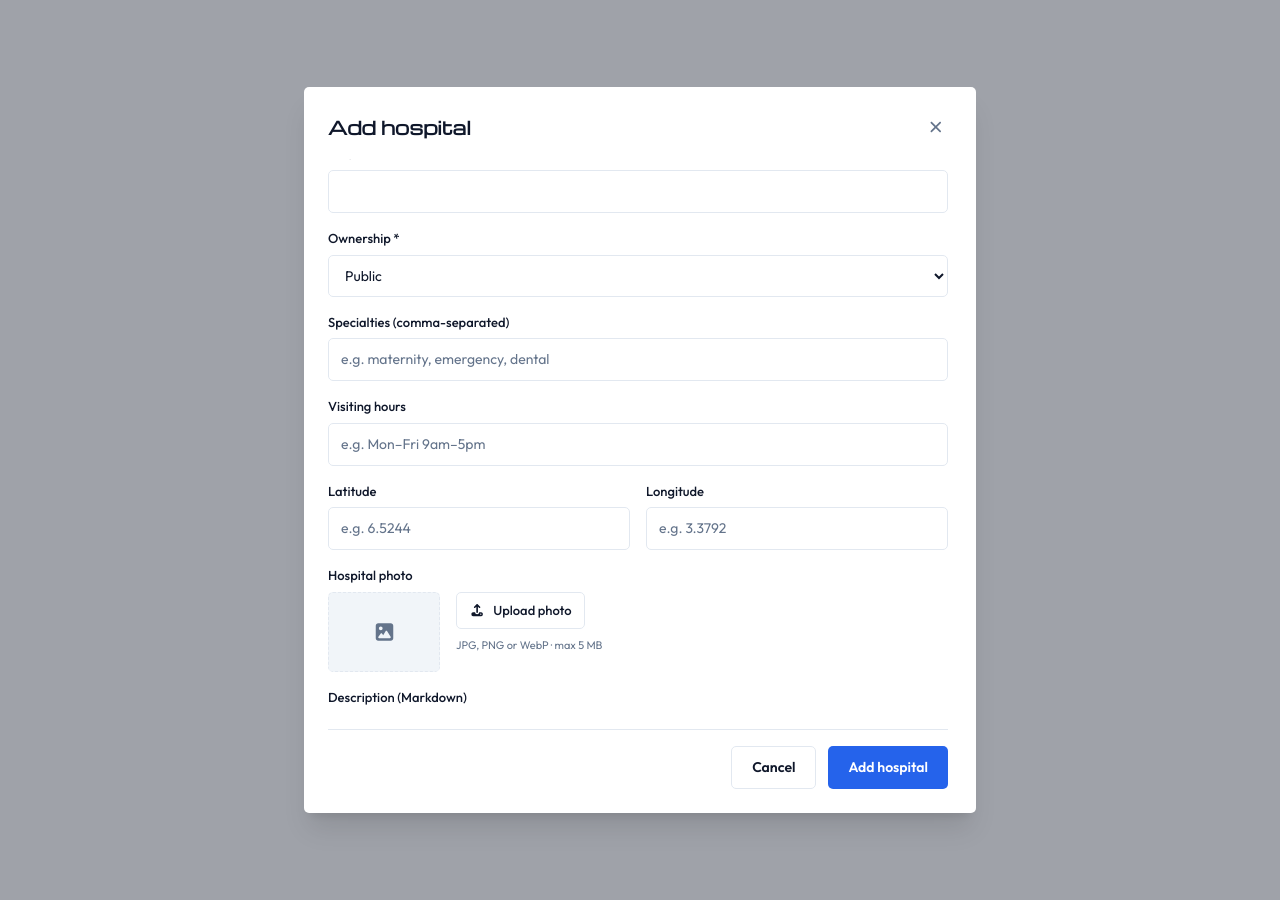
HospitalForm › shows validation errors for empty required fields
(page scrolled)
Step 1. Click the button "Add hospital" → (888, 768), box [828,746,948,789]
(page scrolled)
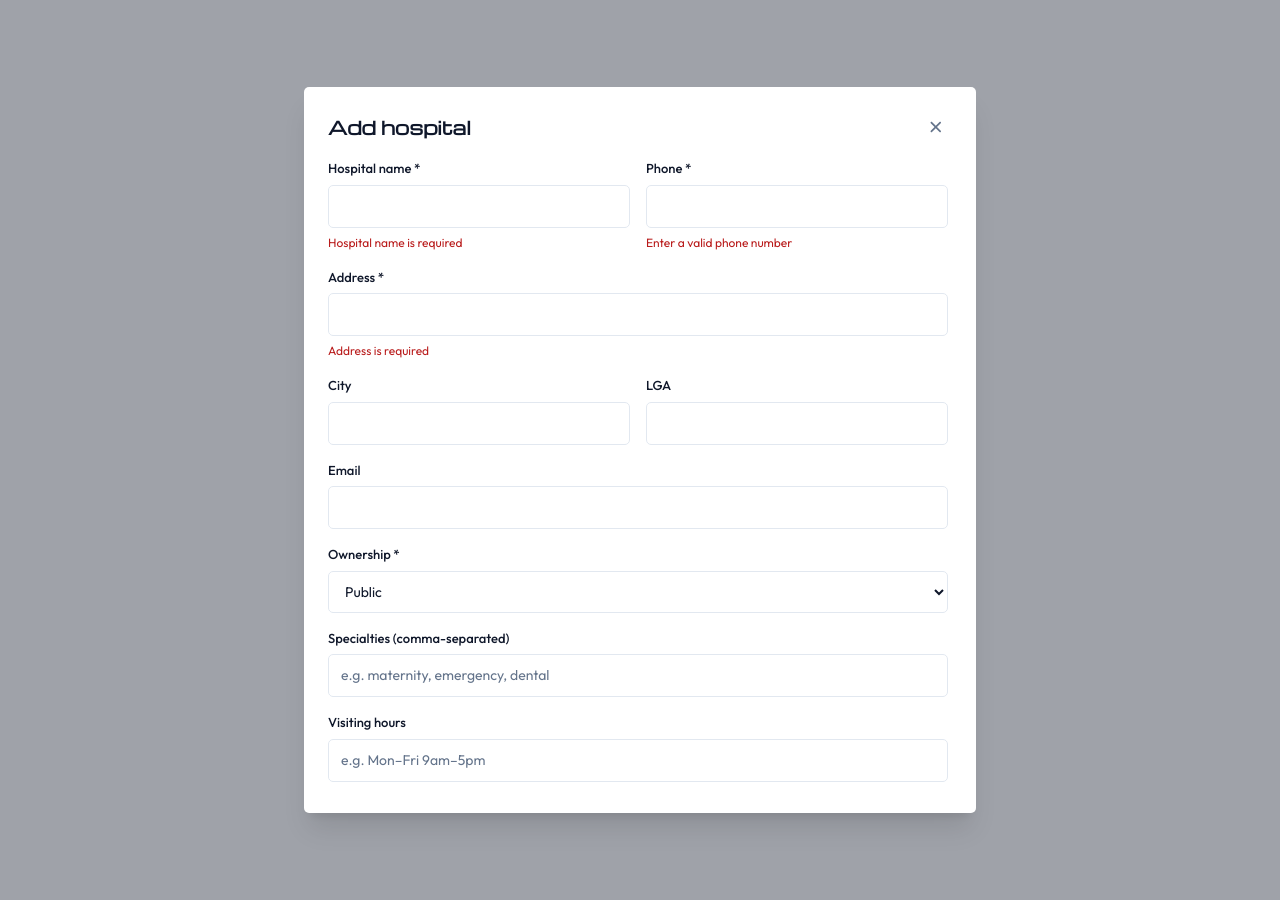
Check: the text "Hospital name is required" is shown, box [328,234,462,250]
